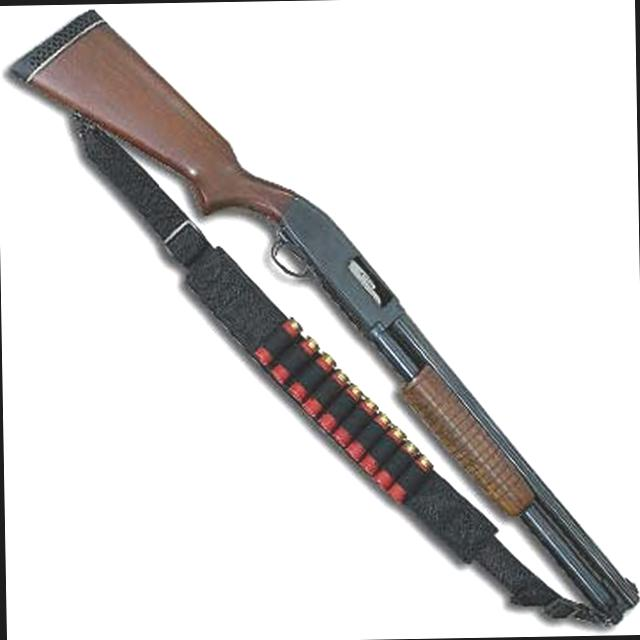long weapon: (2, 3, 640, 635)
